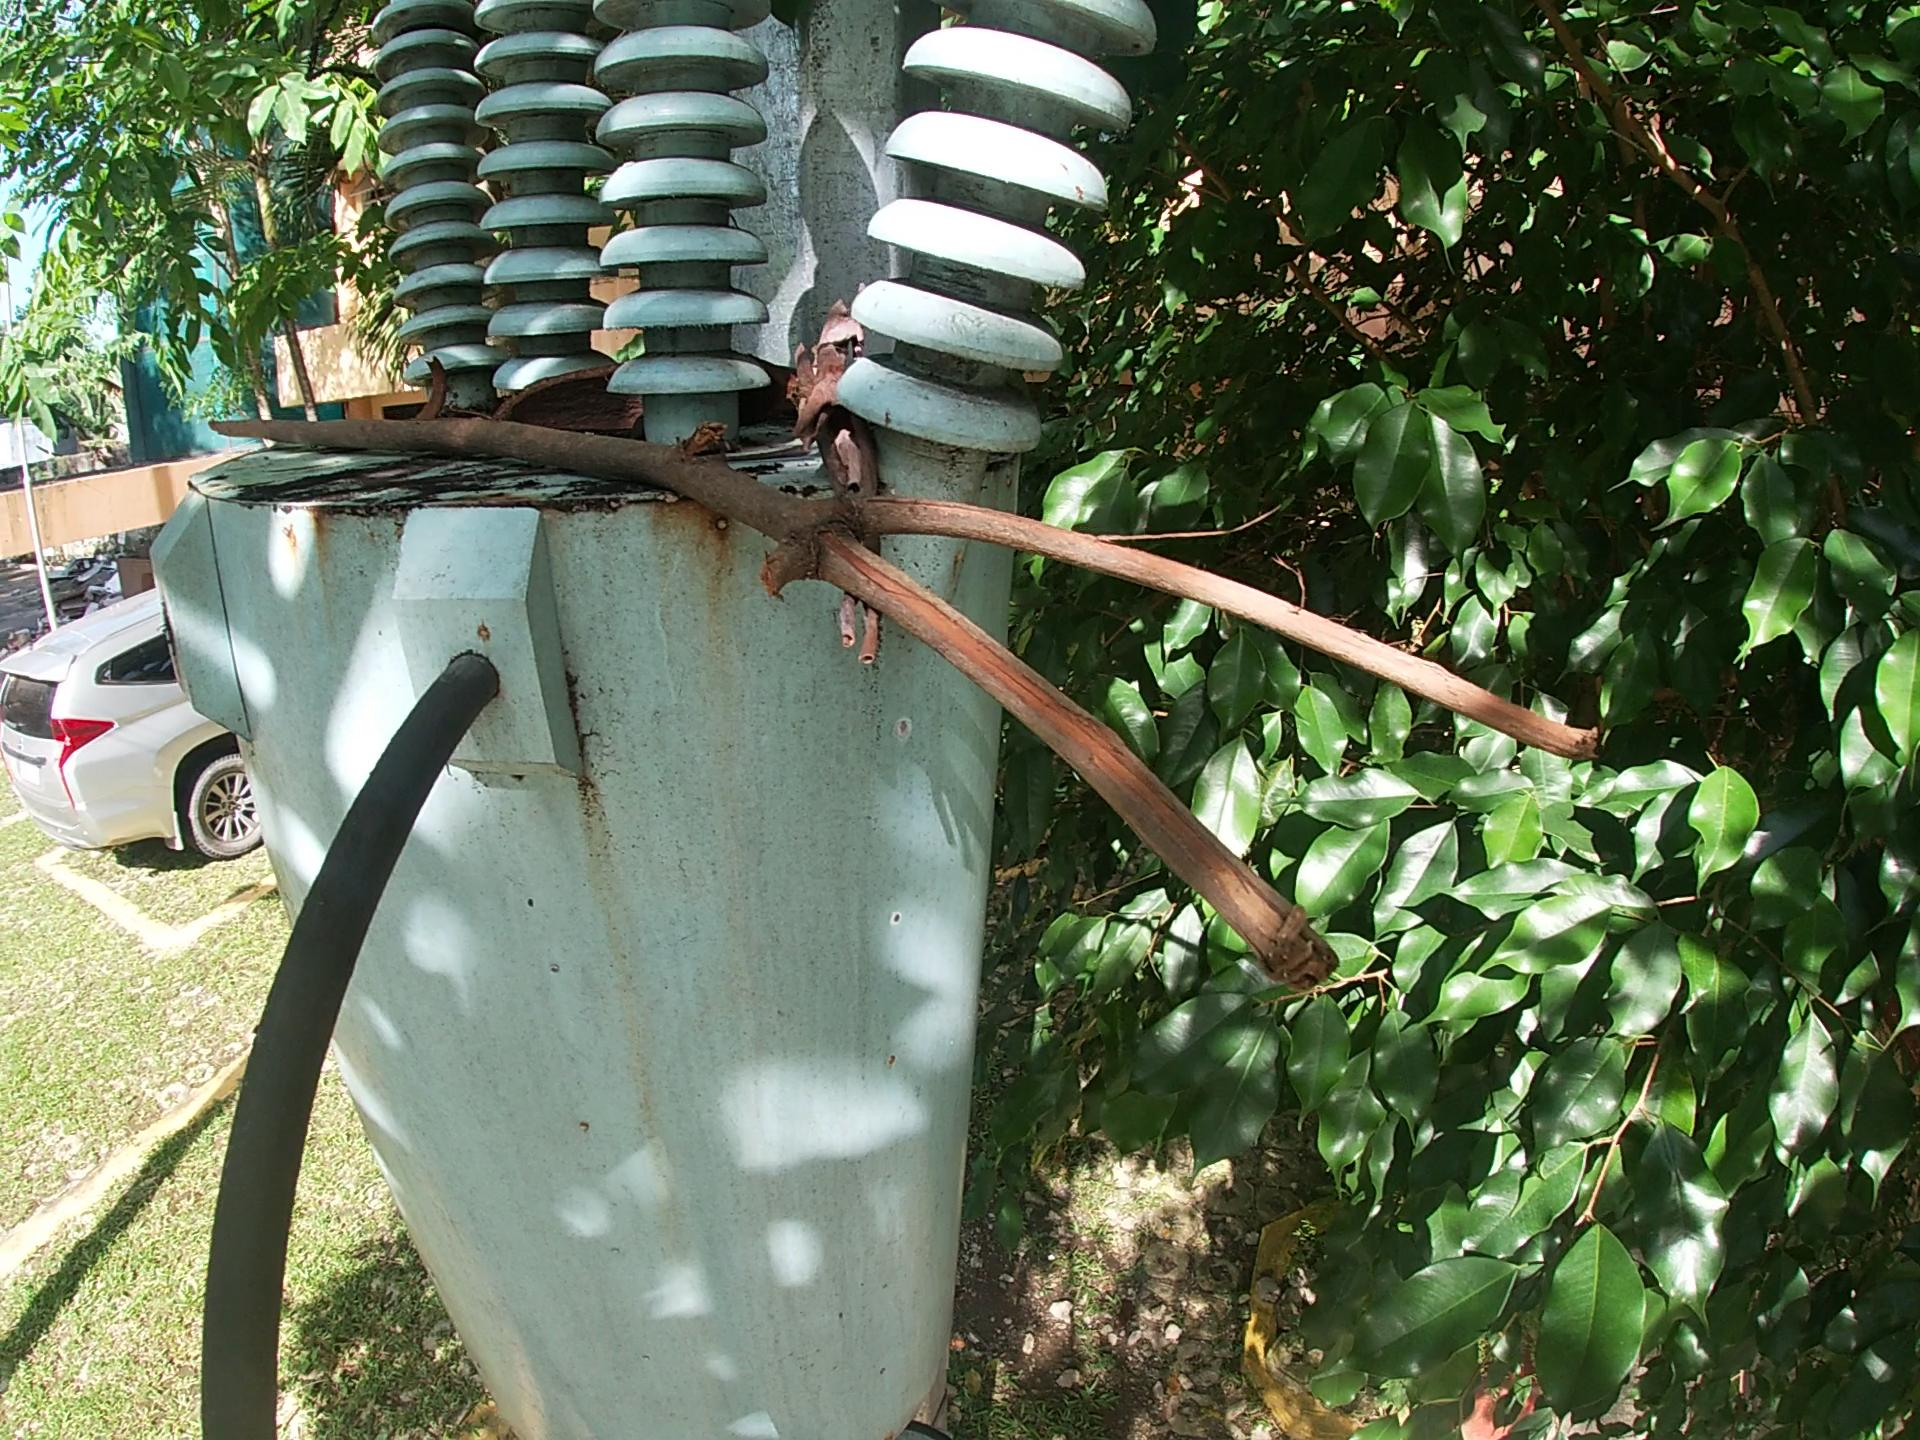mahogany fruit: (499, 357, 667, 417), (736, 346, 797, 434), (404, 355, 461, 424)
tree branch: (209, 413, 1631, 1007), (794, 287, 900, 656)
